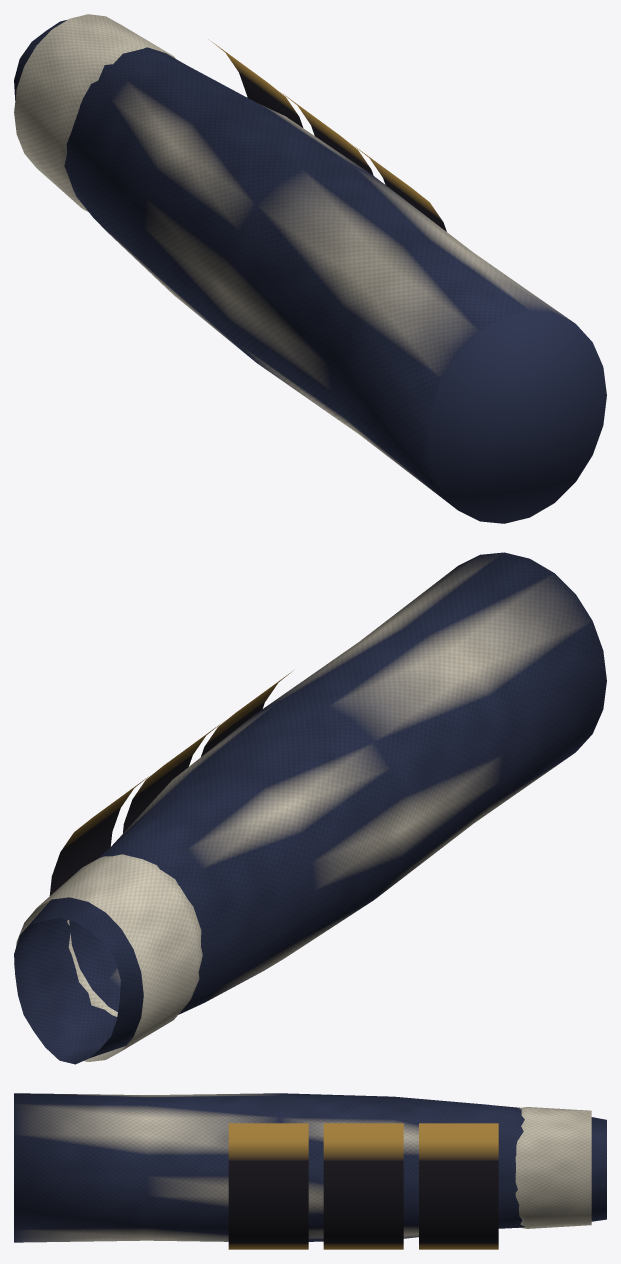
File: fp_forearm_edo.glb
3 renders of one model, top to bottom at view 1: azimuth 30°, elevation 25°; view 2: azimuth 150°, elevation 25°; view 3: azimuth 270°, elevation 25°, orthographic. The views are drawn at different scales.
Visible parts, largest first — view 1: fp_forearm; view 2: fp_forearm; view 3: fp_forearm.
Boxes of the visible parts, x1,y1,x2,y2 form: fp_forearm: [14, 14, 606, 523]; fp_forearm: [14, 552, 606, 1064]; fp_forearm: [14, 1093, 606, 1249].
Bounding box in the file's own units: 0.0763 × 0.0792 × 0.312.
3 materials, 2 textured.
